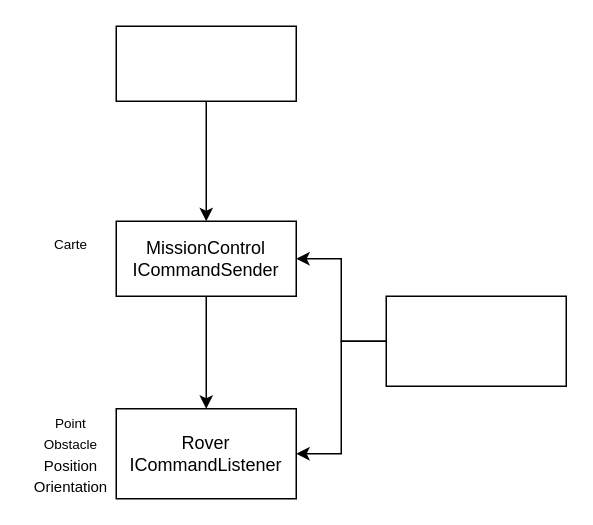
This 593x525 diagram has some shape labels left out. Here are the shapes that lost their labels. From the top down, the centre of each, then its label:
(205,63): UI
(475,340): Network
